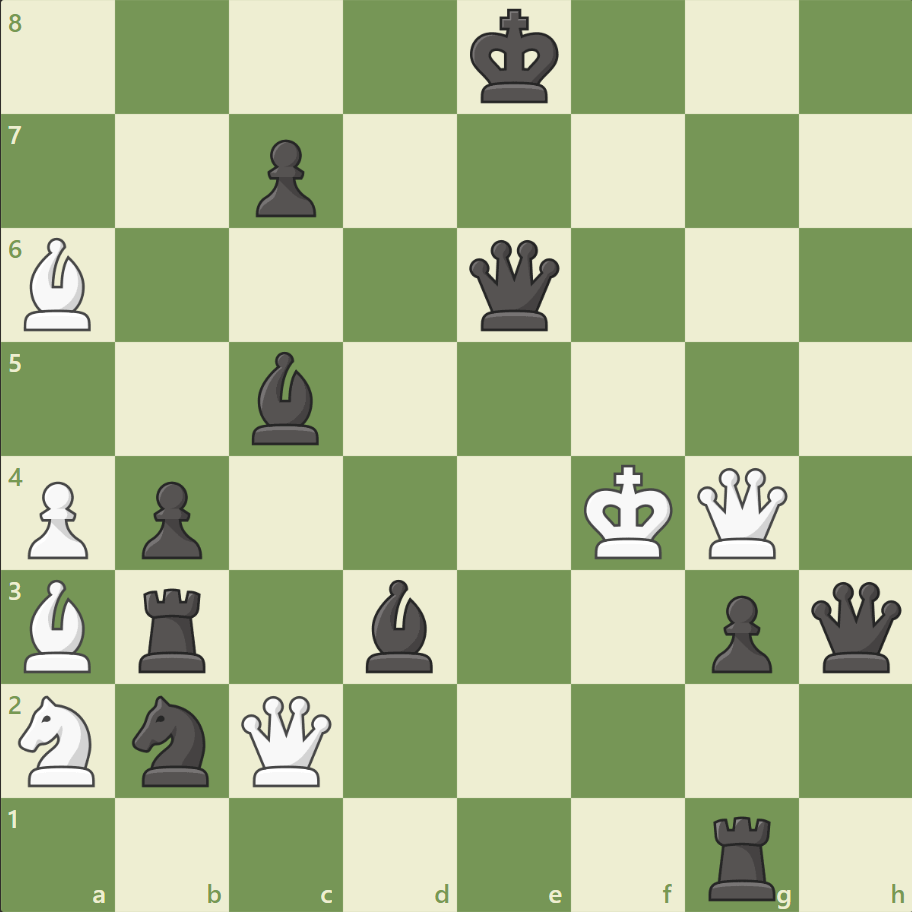B: (17, 233, 101, 336), (17, 574, 101, 676)
K: (579, 458, 679, 566)
N: (11, 688, 108, 791)
P: (20, 473, 95, 564)
Q: (691, 463, 790, 562), (237, 690, 336, 789)
b: (244, 347, 328, 449), (358, 574, 442, 676)
k: (465, 4, 565, 112)
n: (124, 688, 222, 791)
p: (247, 132, 322, 223), (133, 473, 208, 564), (701, 586, 776, 677)
q: (805, 576, 904, 676), (464, 236, 563, 335)
r: (700, 806, 783, 904), (133, 579, 215, 676)
